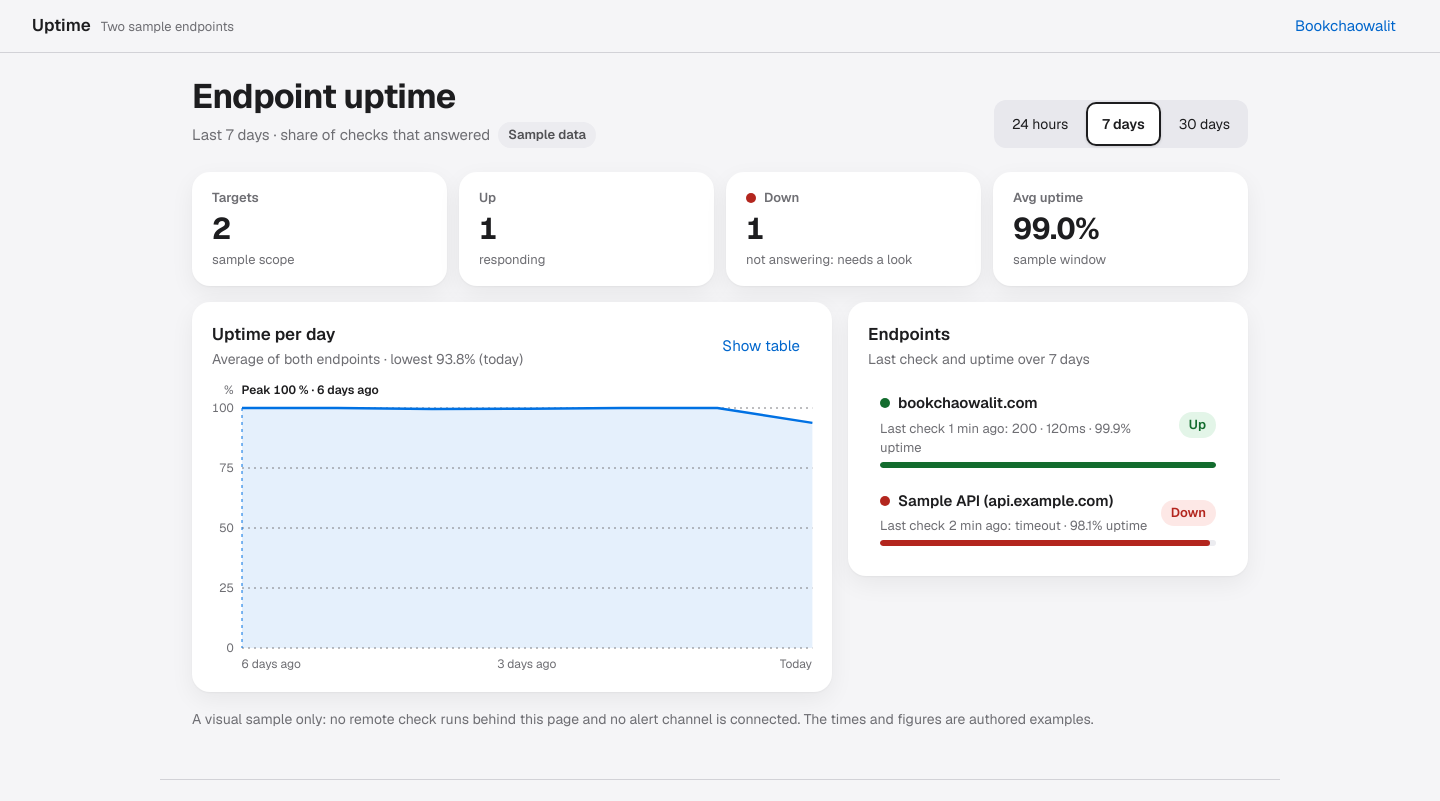
Test: uptime page › recomputes the average and each endpoint's uptime for the chosen period
Click the button "24 hours".
click(1040, 124)  # box [996,102,1084,146]
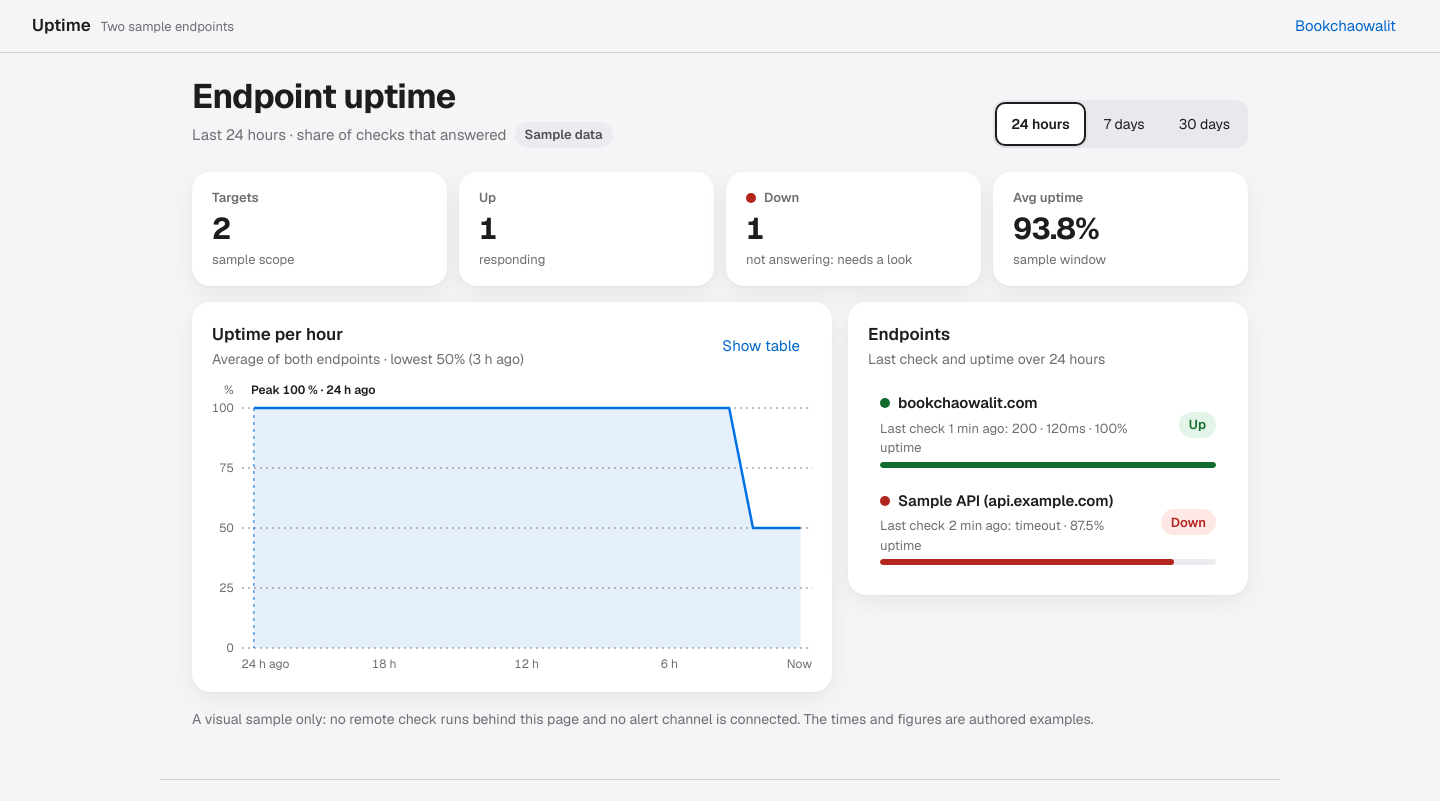
Check: the element showing "Last 24 hours · share of checks that answered Sample data" is shown, box [192,122,613,148]
Check: the list item with class "ds-stat" reads "Avg uptime 93.8% sample window", box [993,172,1248,286]
Check: the list item with class "ds-row" shows "87.5% uptime", box [868,480,1228,575]
Click the button "30 days".
click(1204, 124)  # box [1163,102,1246,146]
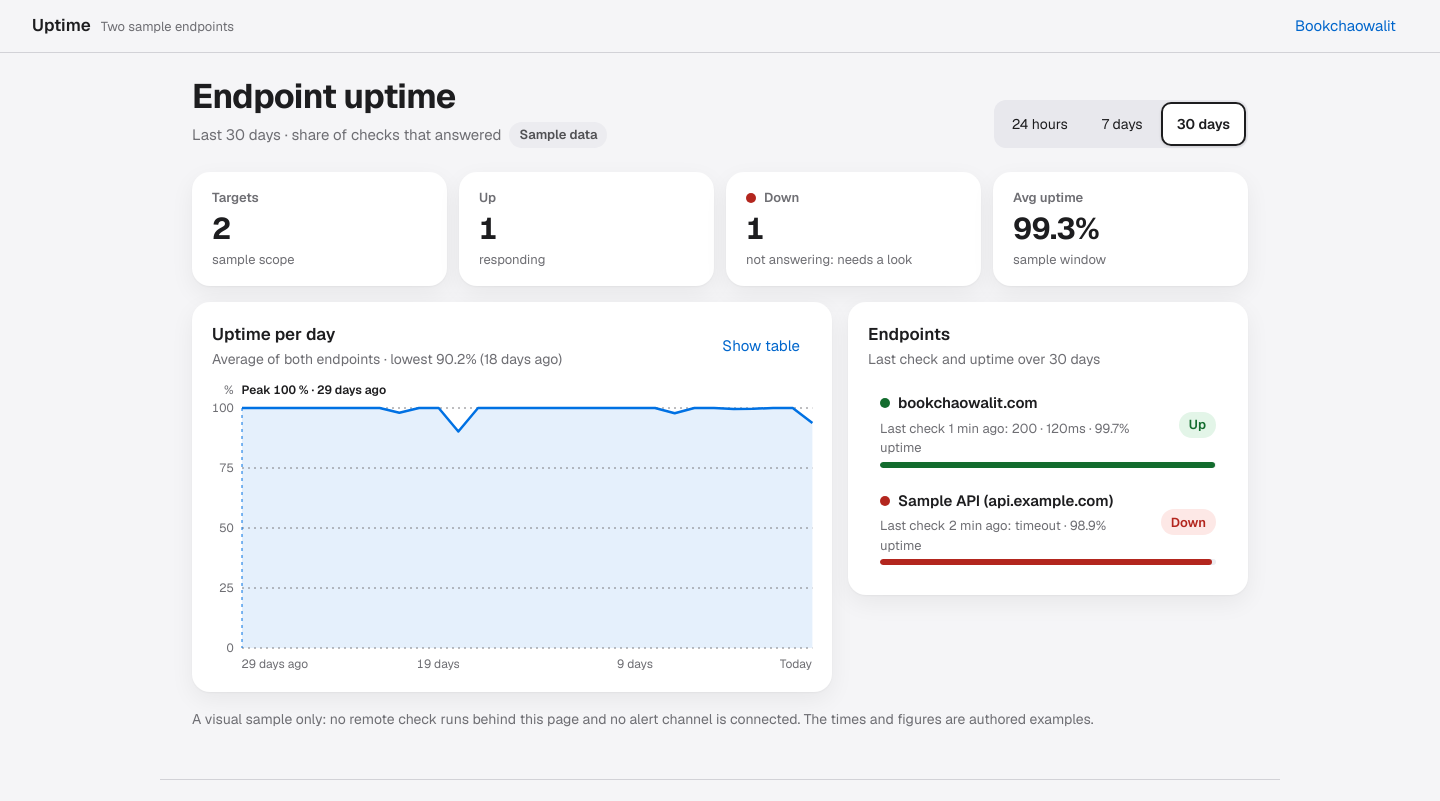
Check: the list item with class "ds-stat" reads "Avg uptime 99.3% sample window", box [993,172,1248,286]
